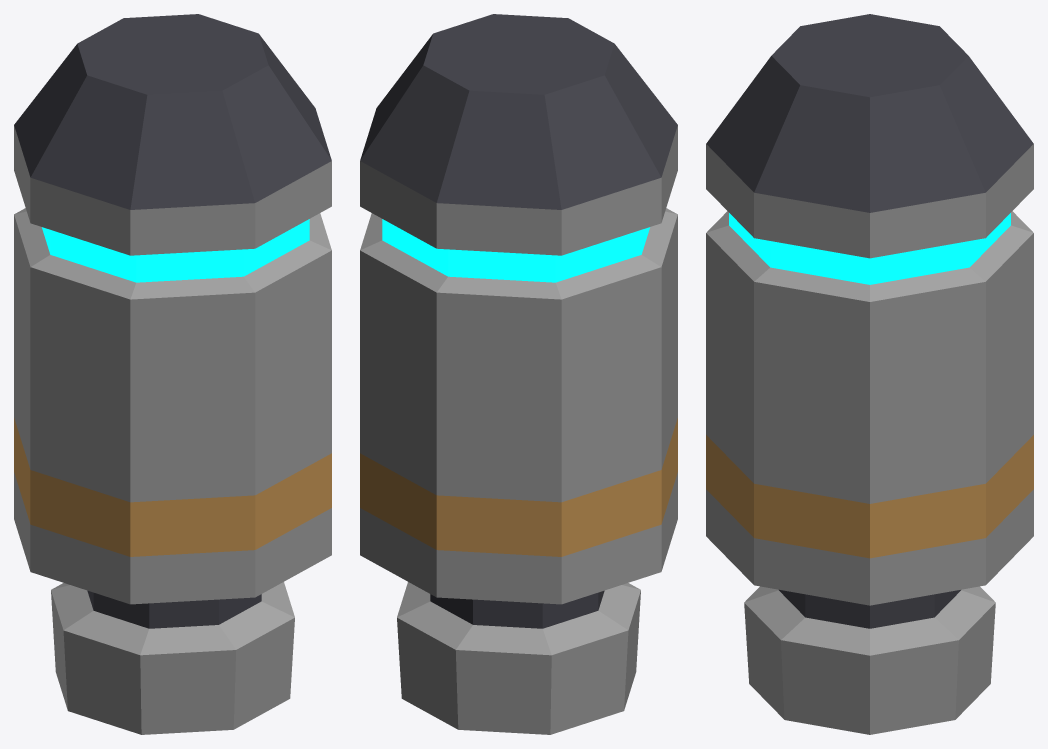
File: Weapon15.fbx
3 views of the same model, side by side, from view 1: azimuth 30°, elevation 25°; view 2: azimuth 150°, elevation 25°; view 3: azimuth 270°, elevation 25° (orthographic).
Visible parts, largest first — view 1: SM_Wep_Mag_Round_01; view 2: SM_Wep_Mag_Round_01; view 3: SM_Wep_Mag_Round_01.
Boxes of the visible parts, left/top/right/bottom form: SM_Wep_Mag_Round_01: left=14, top=14, right=331, bottom=734; SM_Wep_Mag_Round_01: left=360, top=14, right=677, bottom=734; SM_Wep_Mag_Round_01: left=706, top=14, right=1033, bottom=734.
Bounding box in the file's own units: 7.17 × 15.16 × 7.17.
